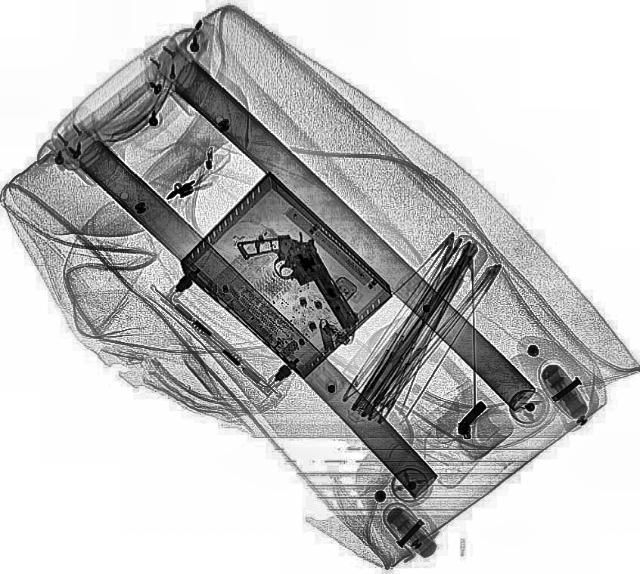Gun: (231, 219, 357, 349)
